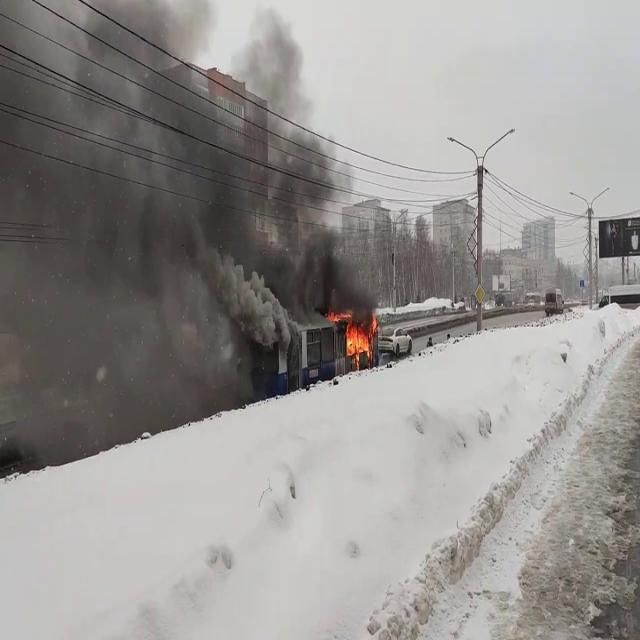Fire: (332, 309, 376, 366)
Smoke: (1, 0, 376, 322)
